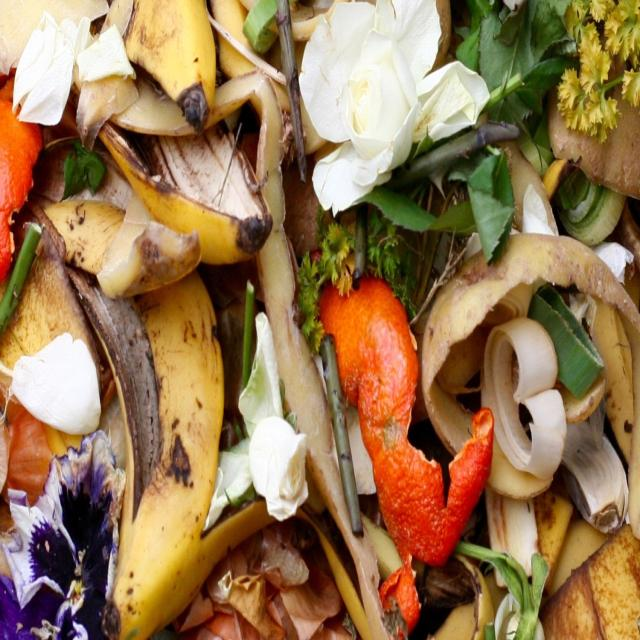Wet: (58, 216, 240, 640), (336, 285, 493, 558), (97, 102, 273, 272), (100, 3, 237, 136)
